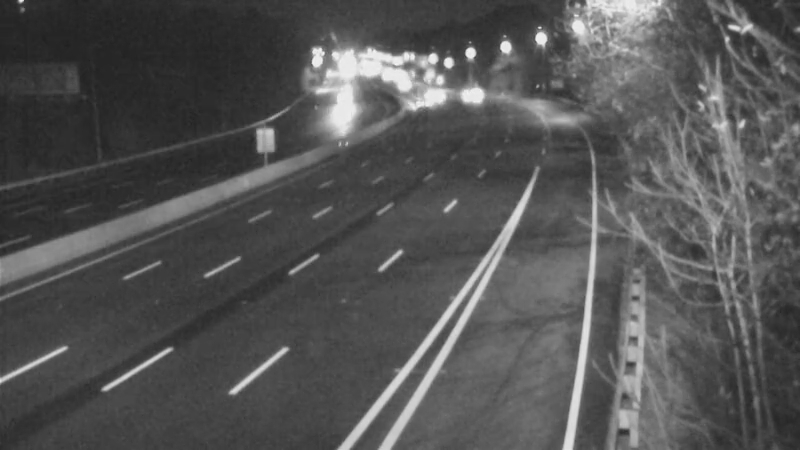vehicle: (408, 69, 458, 119), (443, 68, 493, 118), (395, 77, 445, 127)
